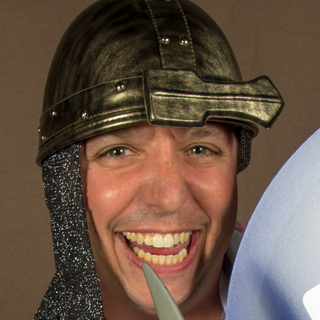eye: (179, 139, 223, 163), (95, 141, 138, 165)
